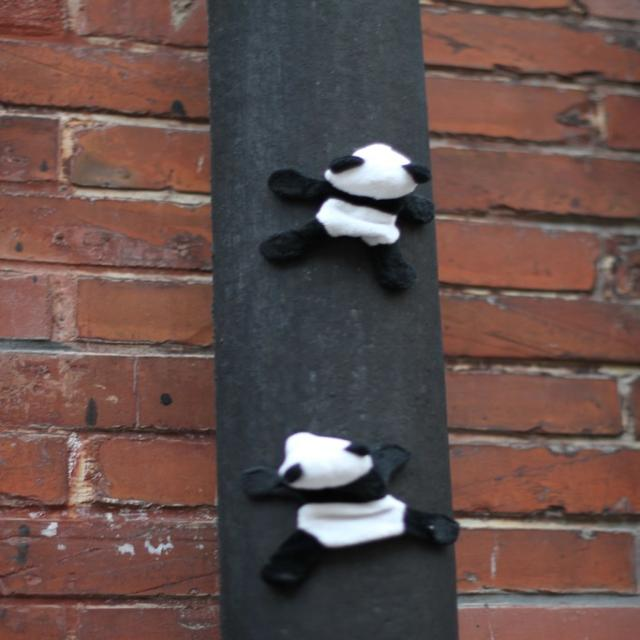panda: (237, 431, 461, 595), (259, 140, 436, 297)
